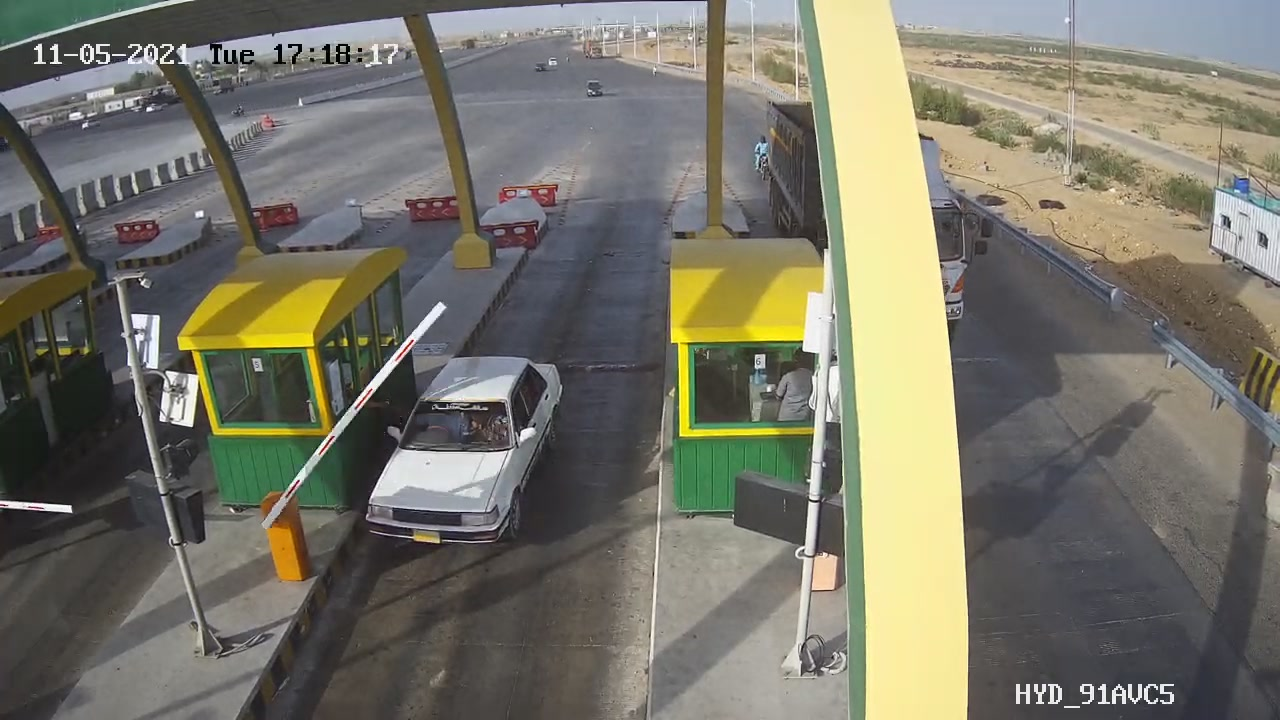F1: (346, 336, 579, 569)
